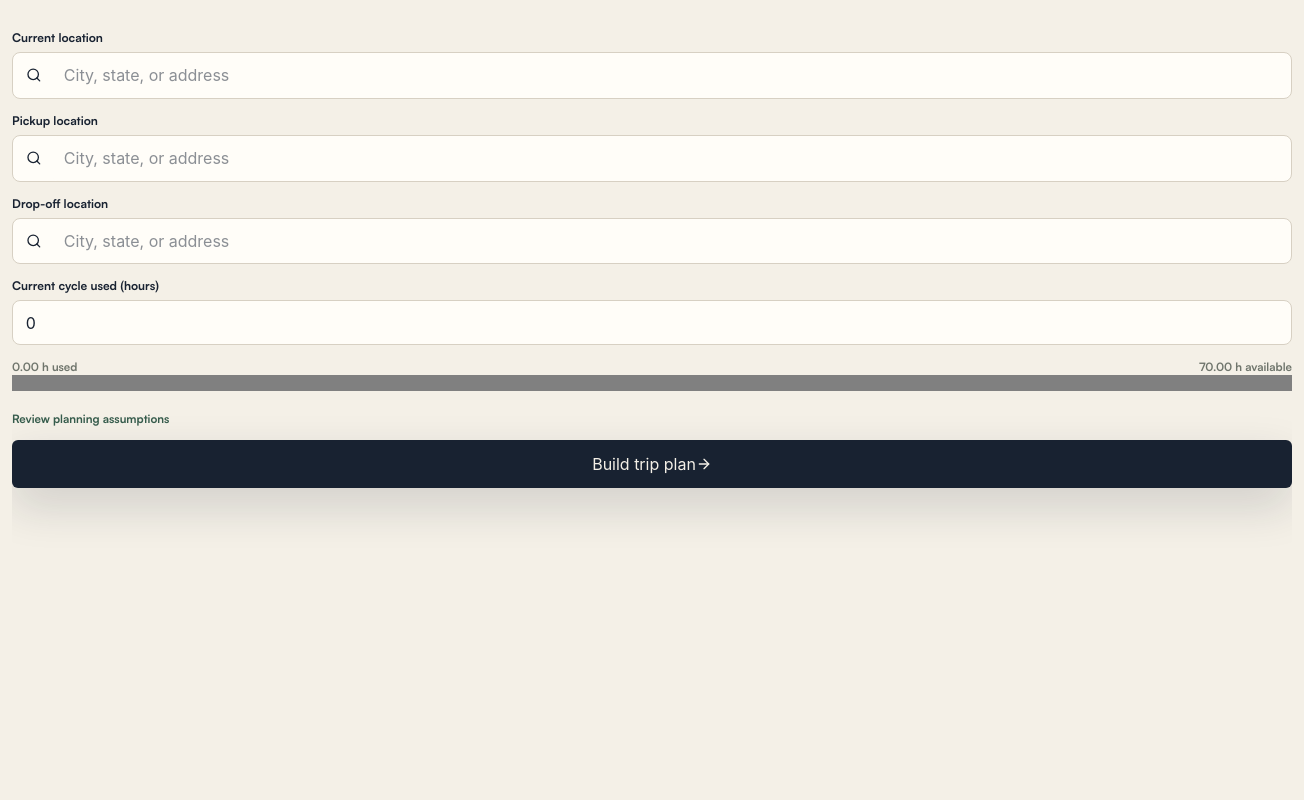
TripForm › rejects cycle values that are not quarter hours
Replace the text in the number field labelled "Current cycle used (hours)" with "24.1". click: [652, 323]
box: [12,300,1292,345]
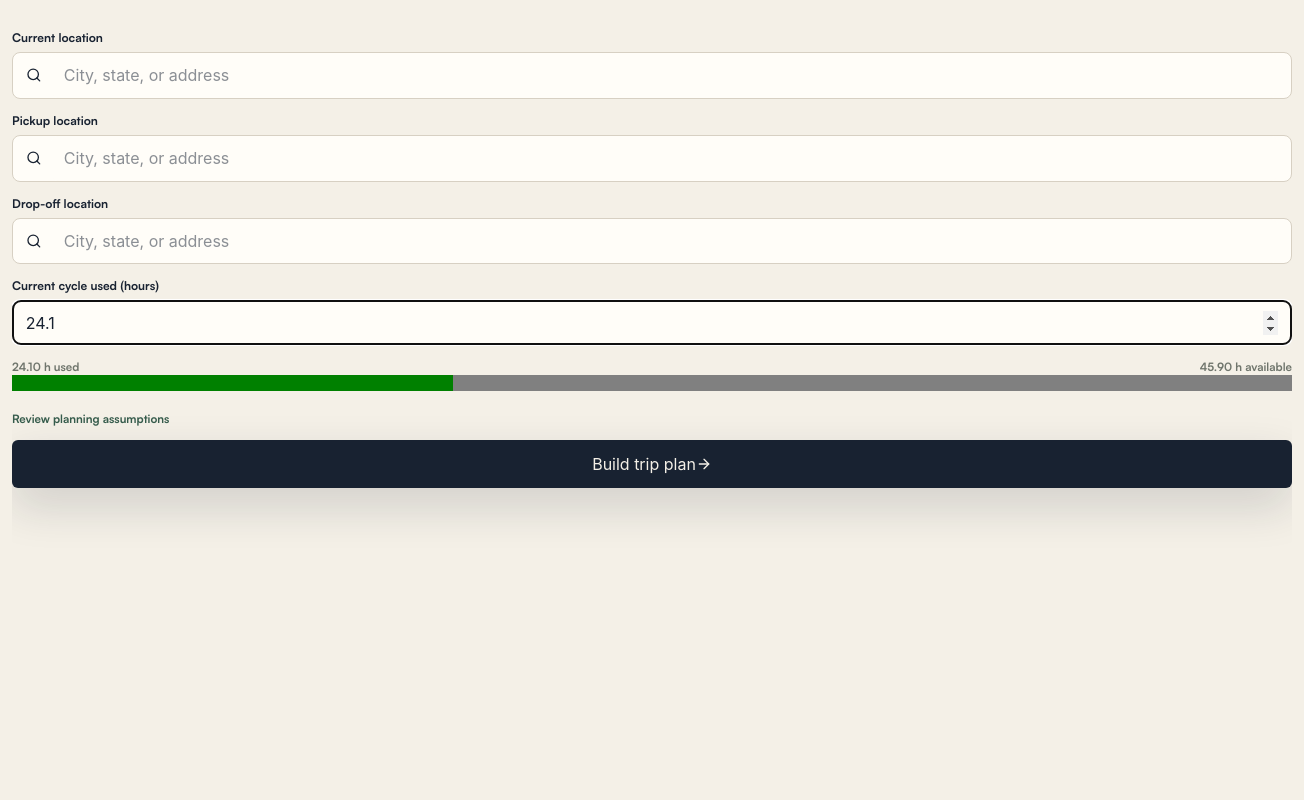
Click the button "Build trip plan". click: [652, 464]
box: [12,440,1292,488]
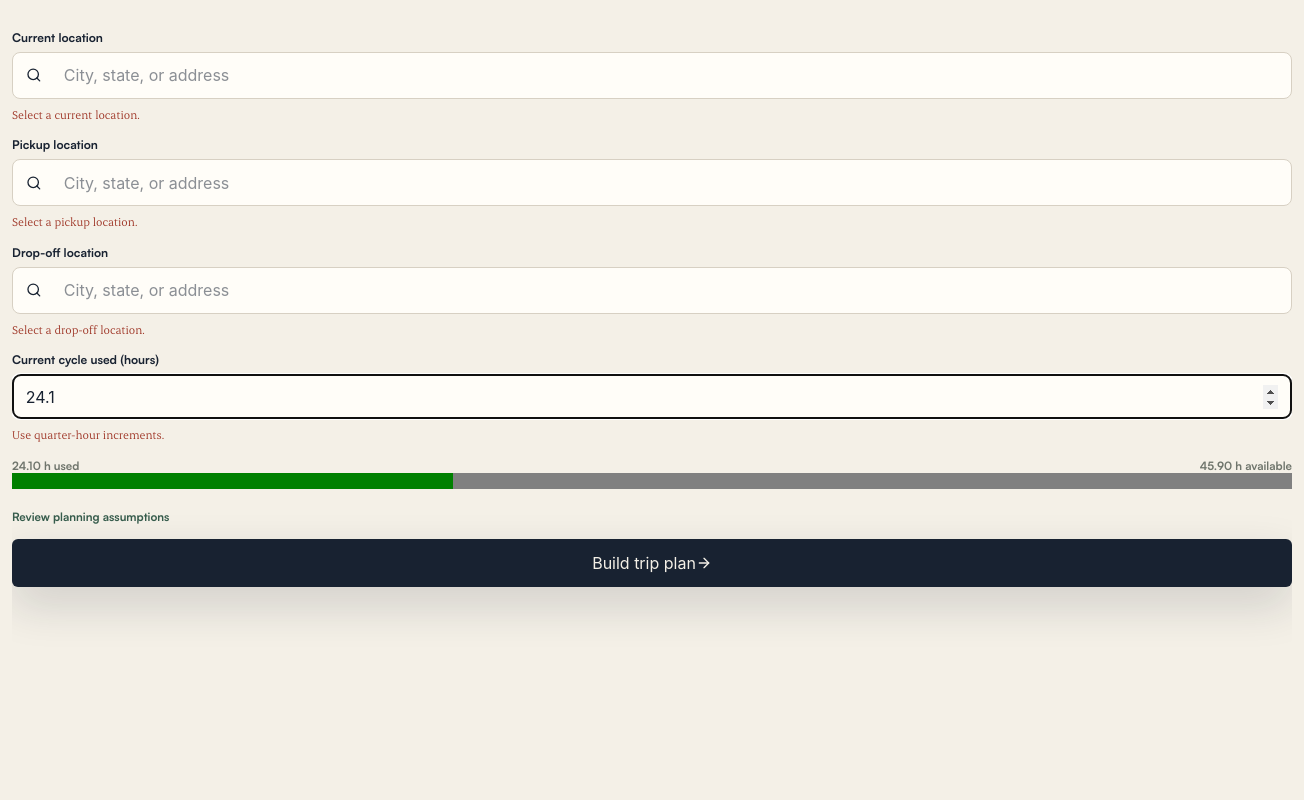
Check: the text "Use quarter-hour increments." is shown, box [12,427,164,442]
